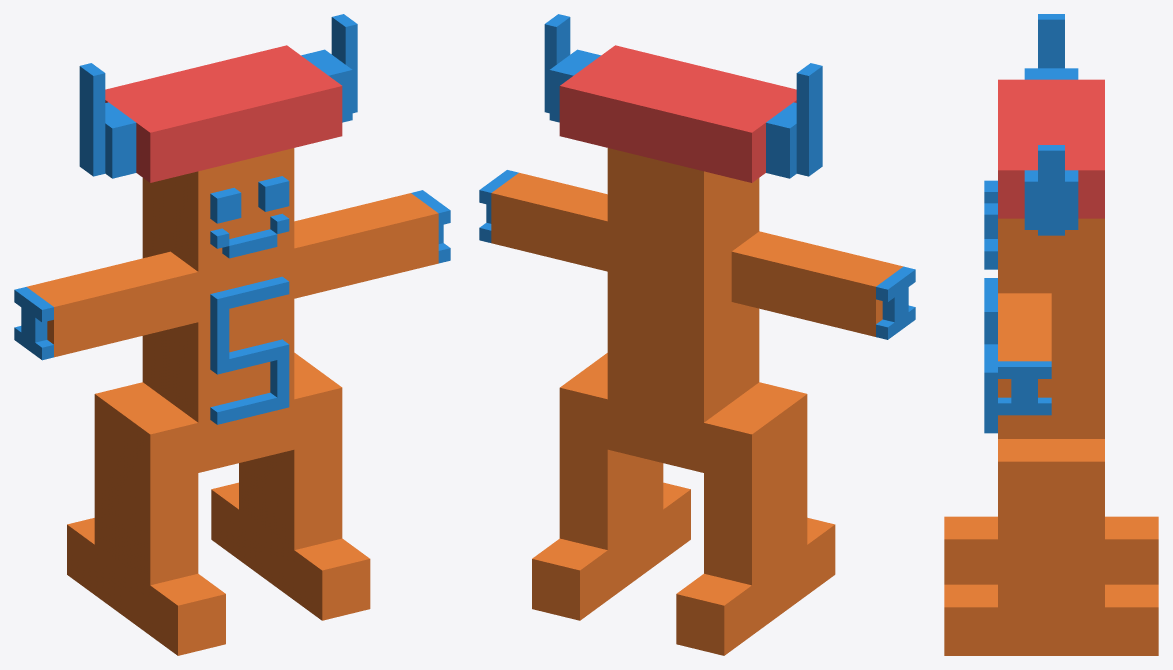
Rendered from Prjoect2 custom 3.fbx.
3 renders of one model, left to right at view 1: azimuth 30°, elevation 25°; view 2: azimuth 150°, elevation 25°; view 3: azimuth 270°, elevation 25°, orthographic. The views are drawn at different scales.
Parts seen in each view (by area): view 1: default; view 2: default; view 3: default.
Boxes of the visible parts, x1,y1,x2,y2 form: default: [14, 14, 450, 655]; default: [479, 14, 915, 655]; default: [944, 14, 1158, 655].
Bounding box in the file's own units: 68 × 88 × 32.
